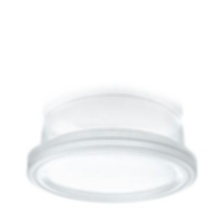plastic_box: (19, 87, 203, 210)
